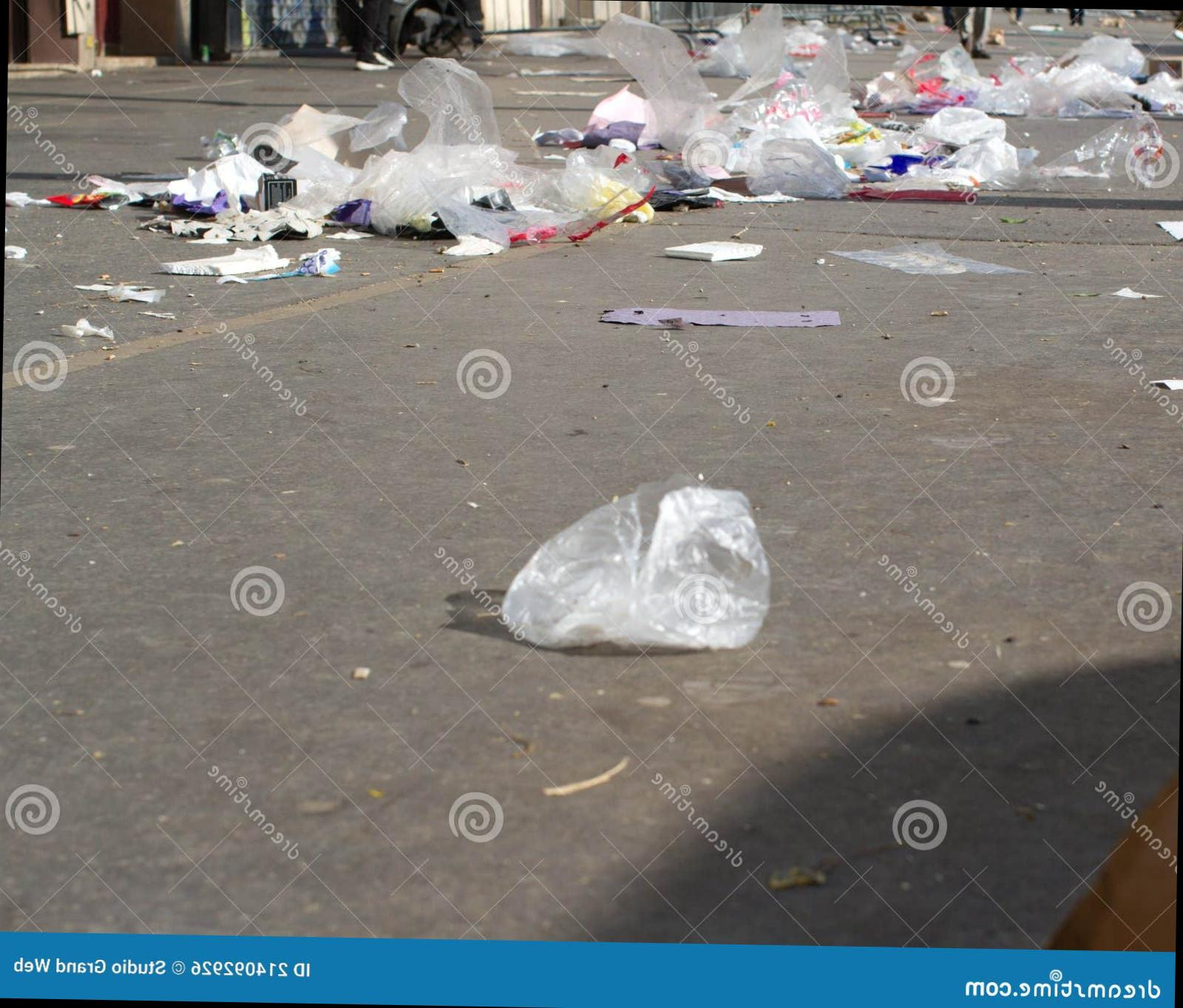road: (0, 170, 1183, 948)
trash: (284, 60, 655, 247), (683, 48, 1116, 196), (502, 475, 770, 649)
